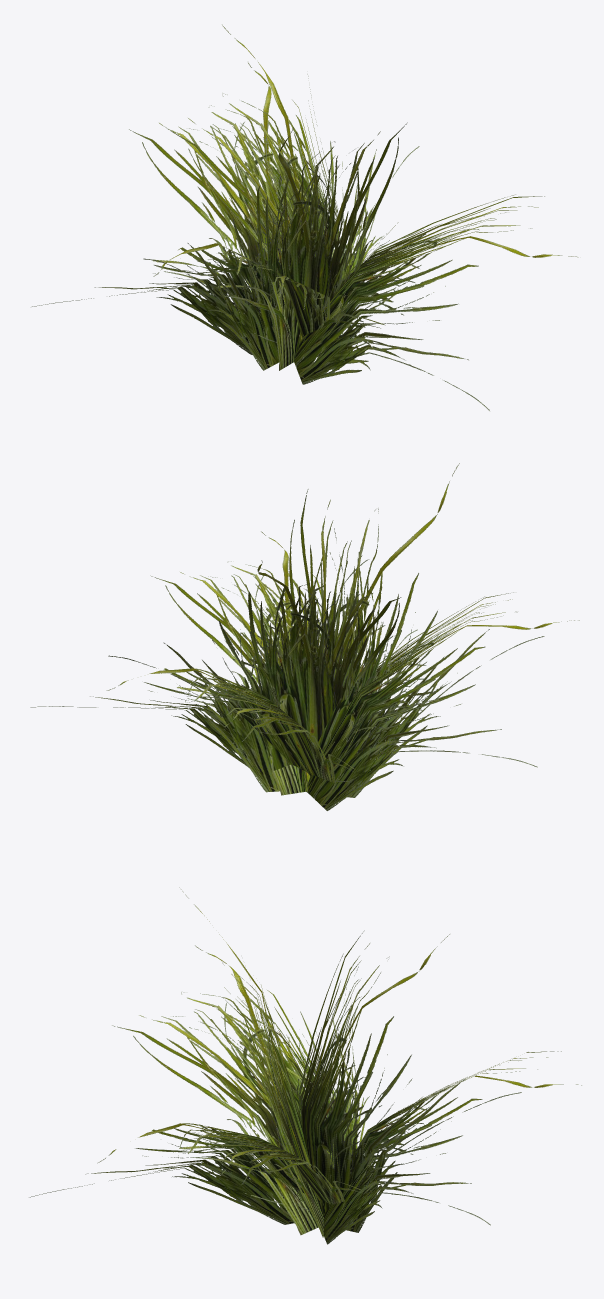
File: DF_JP_Grass_04.fbx
The picture shows the model from 3 angles, top to bottom: view 1: azimuth 30°, elevation 25°; view 2: azimuth 150°, elevation 25°; view 3: azimuth 270°, elevation 25°; orthographic projection. The views are drawn at different scales.
Visible parts, largest first — view 1: DF_JP_Grass_04_LOD0; view 2: DF_JP_Grass_04_LOD0; view 3: DF_JP_Grass_04_LOD0.
Boxes of the visible parts, x1,y1,x2,y2 form: DF_JP_Grass_04_LOD0: (32,24,578,410); DF_JP_Grass_04_LOD0: (30,463,579,810); DF_JP_Grass_04_LOD0: (29,887,581,1244).
Size of what is drawn, in the model's own units: 104 by 65.81 by 105.
